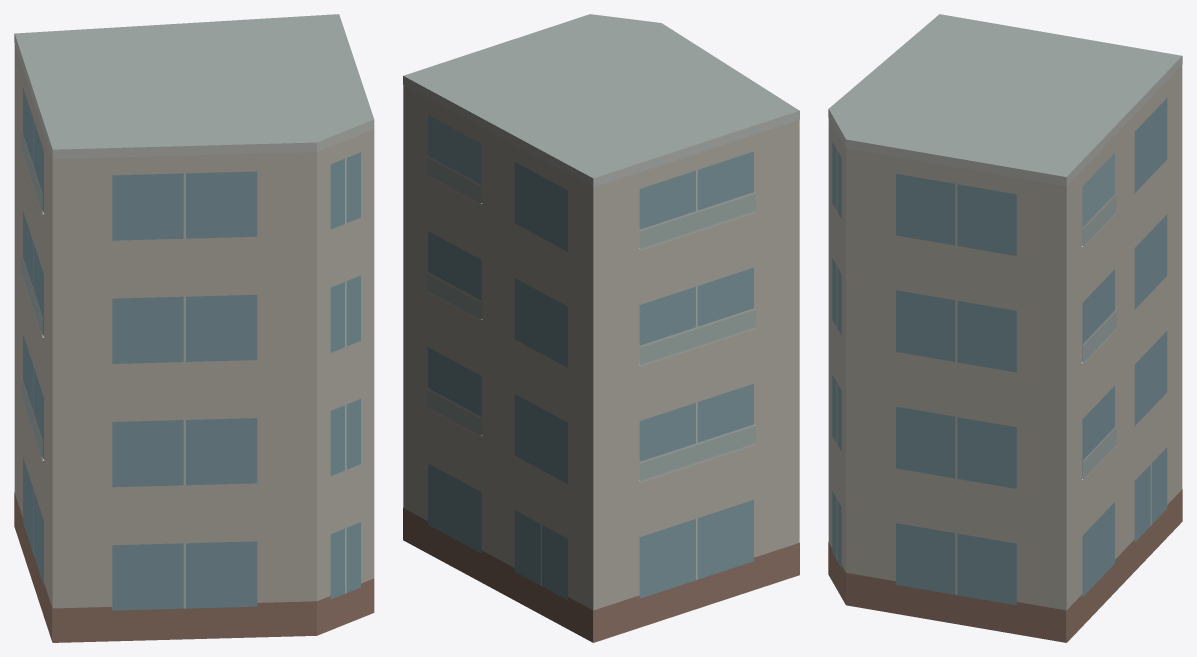
File: survey-upis-32726286.glb
3 views of the same model, side by side, from view 1: azimuth 30°, elevation 25°; view 2: azimuth 150°, elevation 25°; view 3: azimuth 270°, elevation 25° (orthographic). The views are drawn at different scales.
Visible parts, largest first — view 1: survey-upis-32726286.tmp; view 2: survey-upis-32726286.tmp; view 3: survey-upis-32726286.tmp.
Boxes of the visible parts, x1=… form: survey-upis-32726286.tmp: x1=14, y1=14, x2=374, y2=642; survey-upis-32726286.tmp: x1=403, y1=14, x2=799, y2=642; survey-upis-32726286.tmp: x1=828, y1=14, x2=1182, y2=642.
Bounding box in the file's own units: 9.55 × 12.7 × 8.75.
